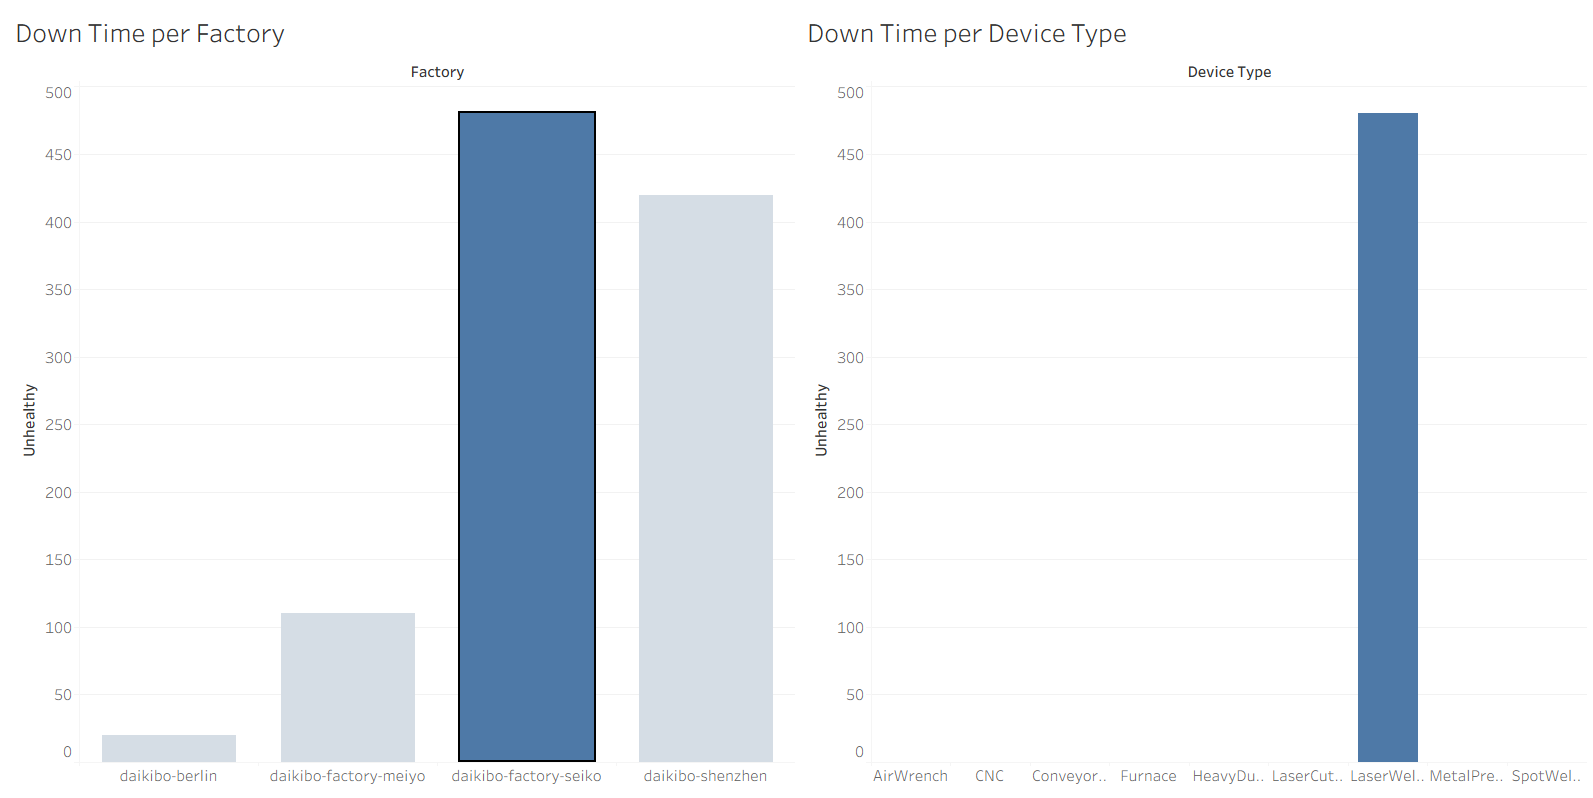

The page's visual inventory and layout, read from the dashboard file:
{"tool":"tableau","page":{"name":"Dashboard 1","canvas":[1600,800],"ordinal":0},"visuals":[{"type":"worksheet","title":"Down Time per Factory","mark":"Automatic","rows":["Calculation_0112723940724738"],"cols":["factory"],"box":[8,8,792,784]},{"type":"worksheet","title":"Down Time per Device Type","mark":"Automatic","rows":["Calculation_0112723940724738"],"cols":["deviceType"],"box":[800,8,792,784]}]}

Visuals, with their boxes in screenshot pixels (x1, y1, x2, y2), scaled from the page's 1600x800 canvas onto the 1593x798 screenshot:
"Down Time per Factory" worksheet: x1=8, y1=8, x2=796, y2=790
"Down Time per Device Type" worksheet: x1=796, y1=8, x2=1585, y2=790
